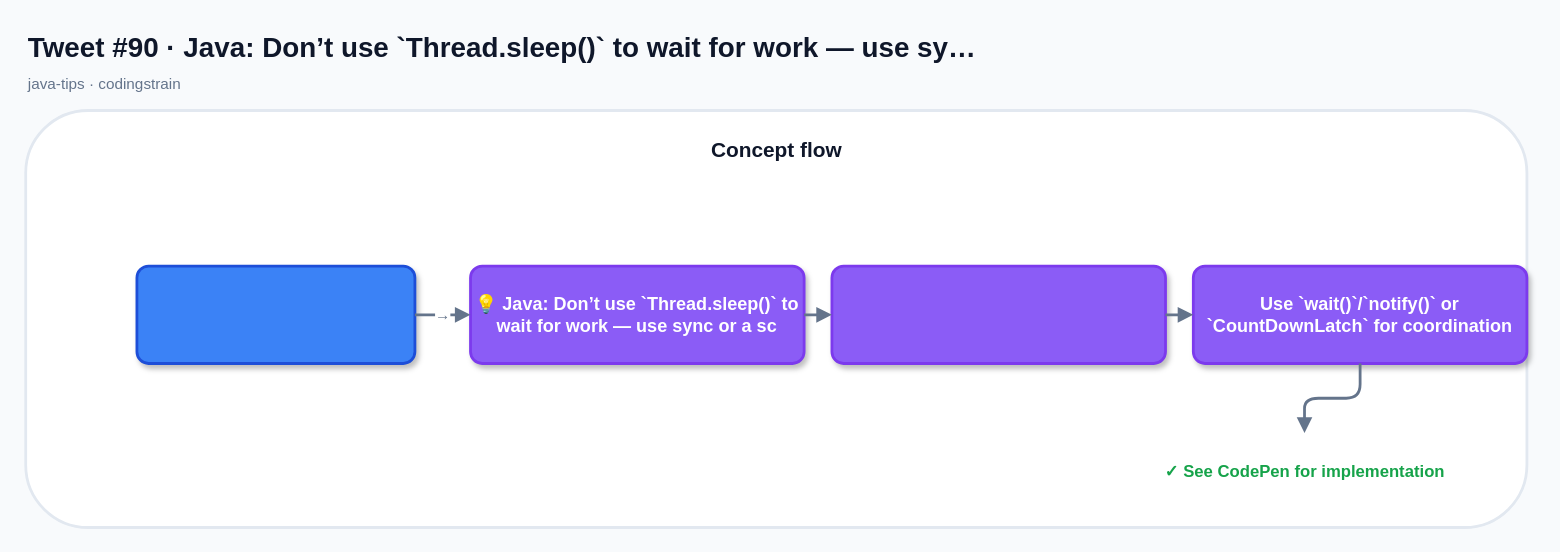
This 1560x552 diagram has some shape labels left out. The shapes that lost their labels are listed below. From the top down, each one's centre as x and y in pixels, then its label:
At (276,316): "Problem / context".
At (999,316): "Sleep is a guess — you wake too early or too late".
